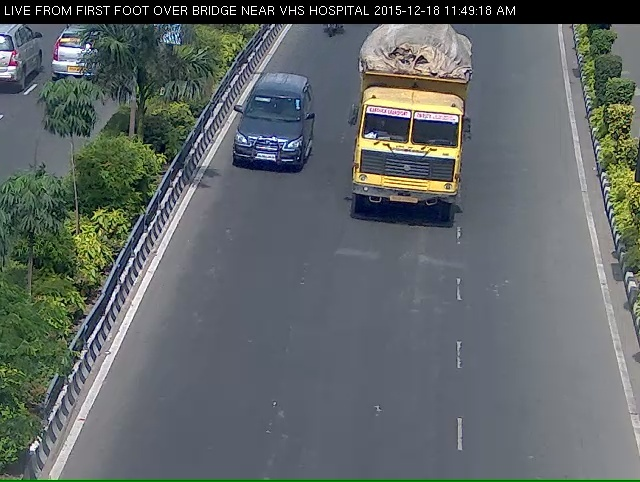Bus: (348, 24, 472, 245)
Car: (224, 83, 306, 195)
